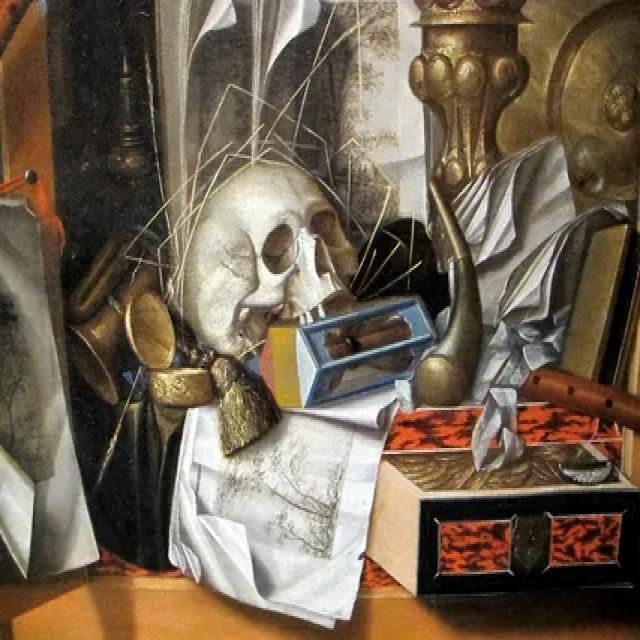skull: (178, 146, 367, 342)
